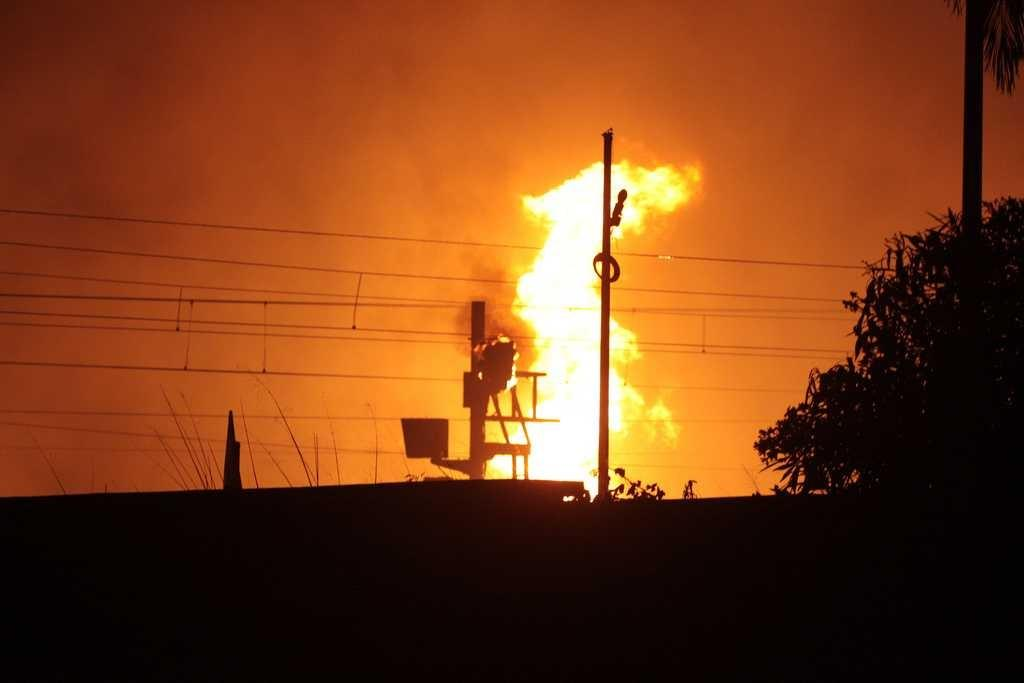fire: (500, 179, 602, 468)
